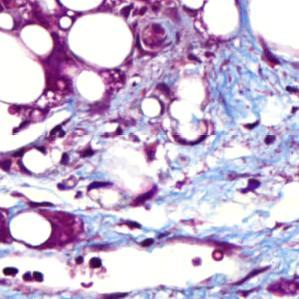steatosis: (67, 7, 137, 74)
